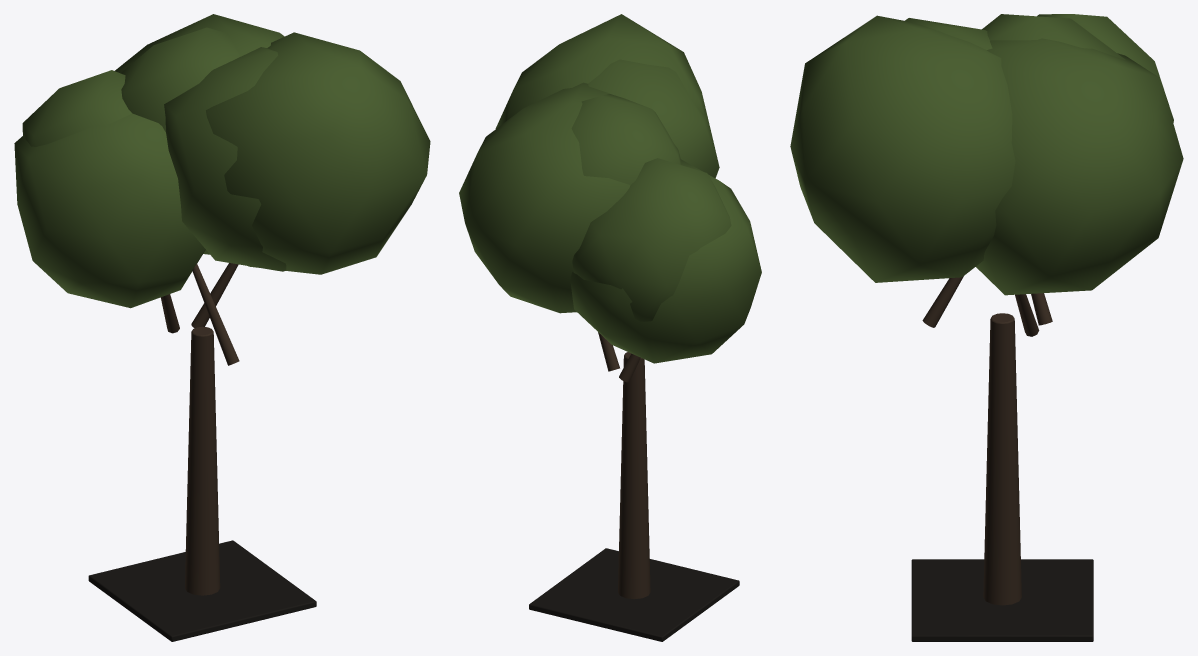
The model's file is baum_tag.glb.
3 renders of one model, left to right at view 1: azimuth 30°, elevation 25°; view 2: azimuth 150°, elevation 25°; view 3: azimuth 270°, elevation 25°, orthographic. The views are drawn at different scales.
Visible parts, largest first — view 1: Icosphere.005, Icosphere.001, Icosphere.002, Cube, Cone, Icosphere, Icosphere.003, Icosphere.004, Cone.003, Cone.001; view 2: Icosphere.004, Icosphere.003, Icosphere.001, Cube, Icosphere.005, Icosphere, Cone, Icosphere.002; view 3: Icosphere.005, Icosphere.004, Cube, Cone, Icosphere, Icosphere.003, Icosphere.002, Cone.003, Cone.001.
Part boxes in pixels (box(x1,y1,x2,y2)): Icosphere.005: box(206, 32, 430, 274); Icosphere.001: box(14, 113, 205, 308); Icosphere.002: box(164, 47, 286, 271); Cube: box(88, 540, 316, 641); Cone: box(185, 326, 220, 595); Icosphere: box(120, 27, 239, 131); Icosphere.003: box(22, 70, 131, 146); Icosphere.004: box(115, 14, 284, 254); Cone.003: box(192, 263, 239, 365); Cone.001: box(191, 263, 238, 328); Icosphere.004: box(459, 82, 630, 313); Icosphere.003: box(572, 158, 731, 322); Icosphere.001: box(570, 159, 761, 363); Cube: box(529, 548, 739, 641); Icosphere.005: box(495, 14, 706, 128); Icosphere: box(571, 94, 680, 184); Cone: box(618, 352, 650, 599); Icosphere.002: box(588, 59, 719, 178); Icosphere.005: box(790, 15, 1015, 282); Icosphere.004: box(976, 38, 1183, 295); Cube: box(911, 559, 1093, 641); Cone: box(983, 313, 1021, 605); Icosphere: box(982, 14, 1125, 59); Icosphere.003: box(1037, 14, 1173, 122); Icosphere.002: box(905, 18, 992, 49); Cone.003: box(922, 276, 963, 327); Cone.001: box(1015, 294, 1039, 336).
Bounding box in the file's own units: 3.3 × 5.54 × 3.24.
